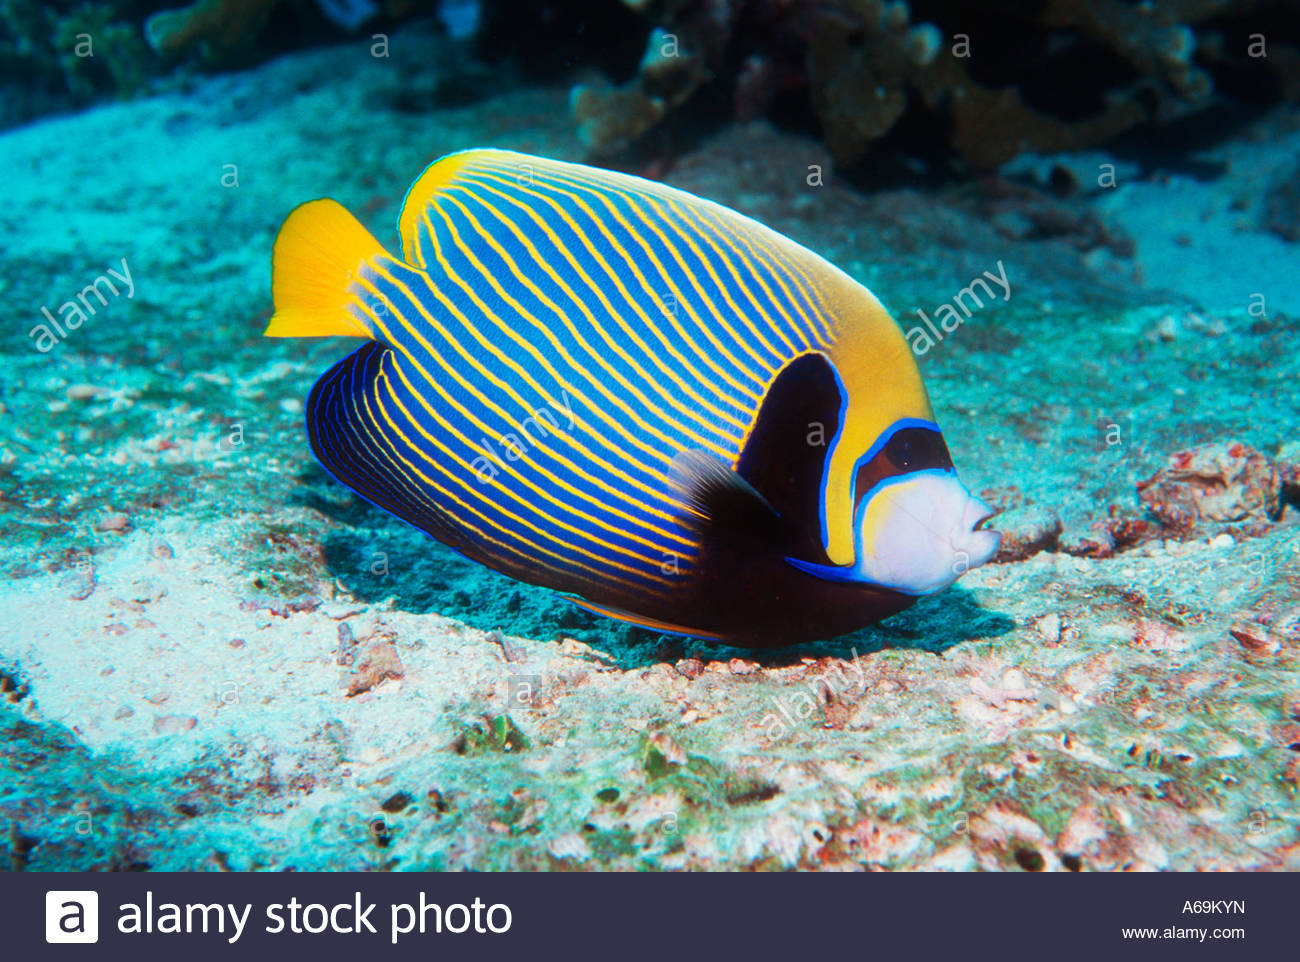Pomacanthus_imperator: (231, 139, 1026, 668)
